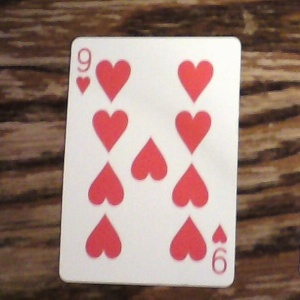card: (58, 35, 242, 288)
